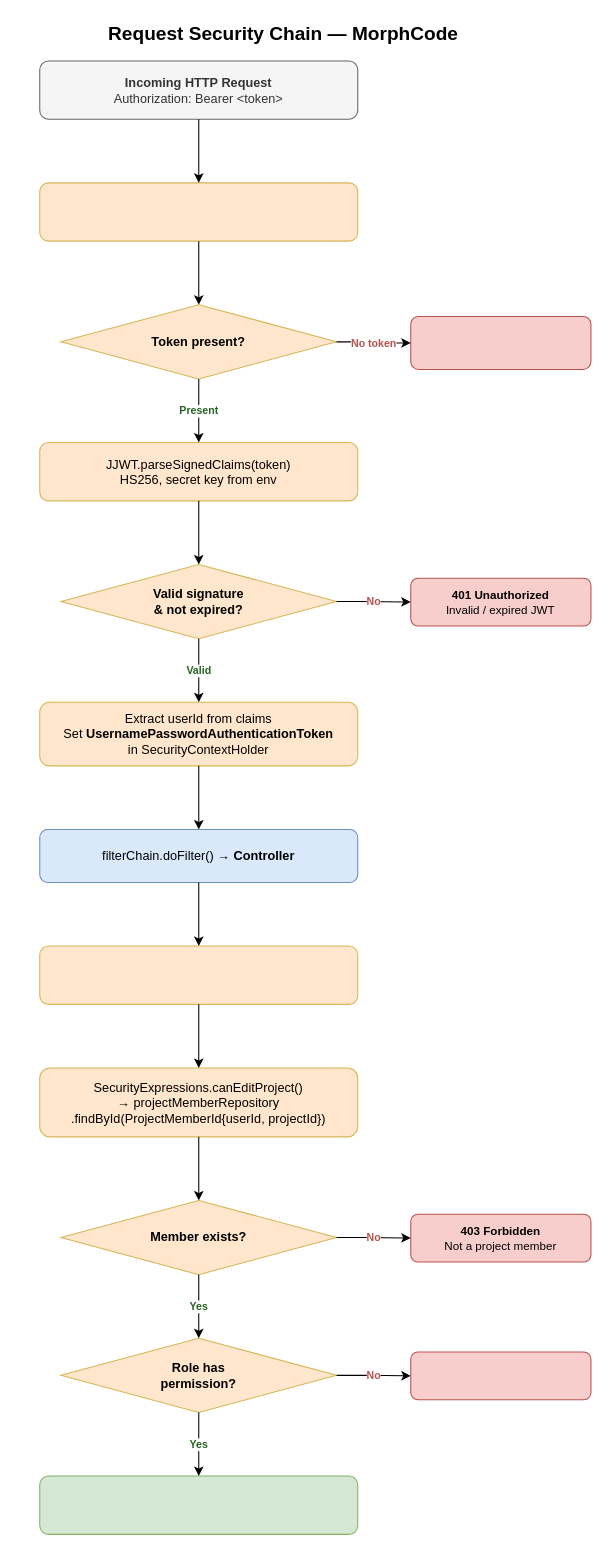
This 609x1553 diagram has some shape labels left out. The shapes that lost their labels are listed below. From the top down, each one's centre as x and y in pixels, then its label:
(x=198, y=211): JwtAuthFilter.doFilterInternal() Extends OncePerRequestFilter
(x=500, y=342): Pass through (no auth) Public endpoints succeed Protected → 403
(x=198, y=974): @PreAuthorize "@security.canEditProject(#projectId)"
(x=500, y=1375): 403 Forbidden Insufficient role
(x=198, y=1504): ✓ Controller Method Executes → Service → Repository → Response
